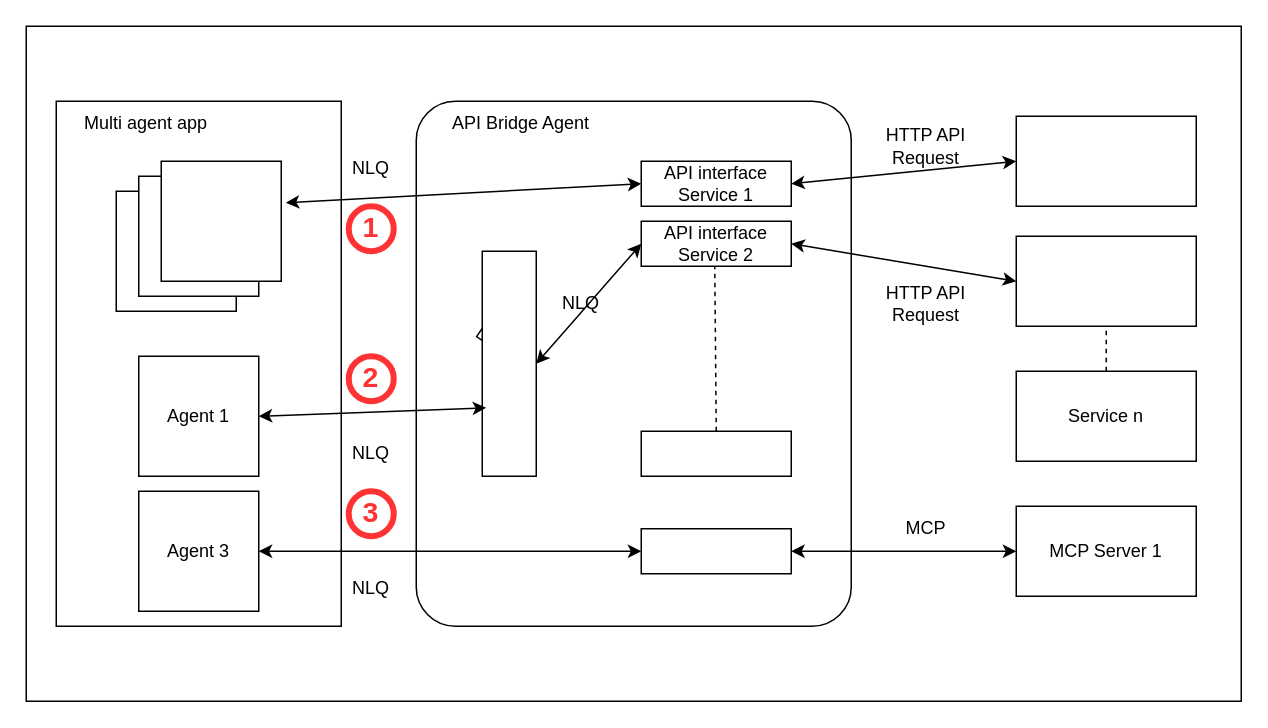
Some shapes in this 1268 by 728 pixel diagram are drawn without their labels. Here are the shapes that lost their labels. From the top down, the centre of each, then its label:
At point (1105, 160): "Service 1".
At point (220, 220): "Agent 2".
At point (1105, 280): "Service 2".
At point (508, 363): "cross-API interface".
At point (715, 453): "API interface Service n".
At point (715, 550): "MCP interface".
